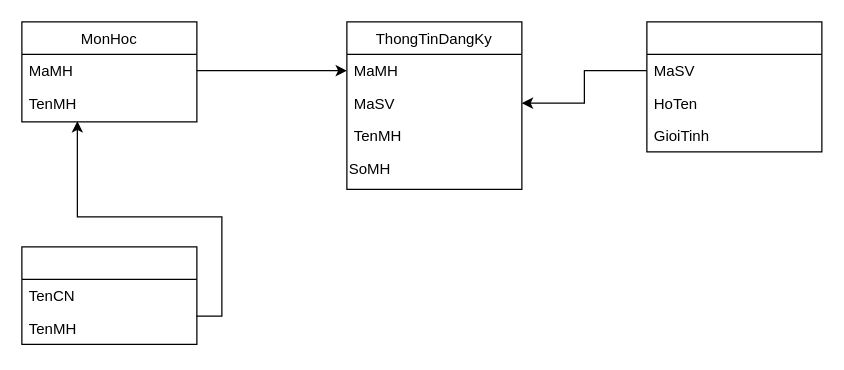
The diagram is 844 pixels wide and 370 high, and some of its shapes have lost their labels. Each missing label, with the box of its shape:
ChuyenNganh: (21, 246, 197, 344)
SinhVien: (646, 21, 822, 152)
